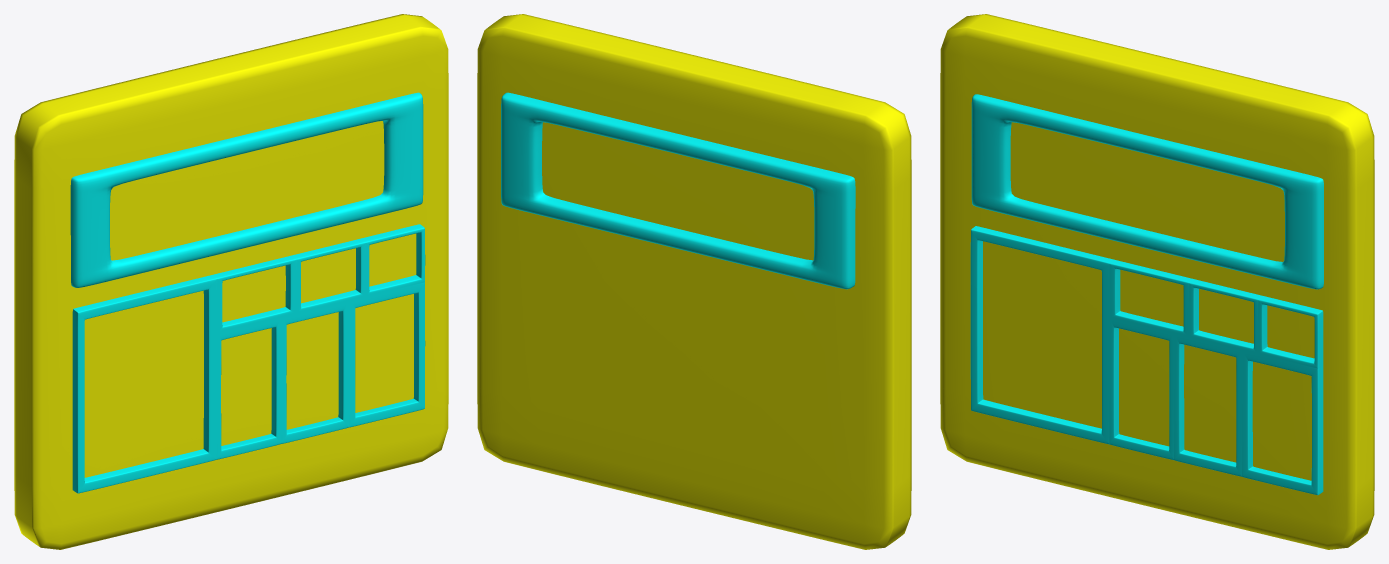
3 views of the same model, side by side, from view 1: azimuth 30°, elevation 25°; view 2: azimuth 150°, elevation 25°; view 3: azimuth 330°, elevation 25° (orthographic).
Parts seen in each view (by area): view 1: polySurface1027; view 2: polySurface1027; view 3: polySurface1027.
Boxes of the visible parts, x1,y1,x2,y2 form: polySurface1027: [14, 14, 448, 549]; polySurface1027: [477, 14, 911, 549]; polySurface1027: [940, 14, 1374, 549].
Bounding box in the file's own units: 0.9994 × 0.9994 × 0.1498.
